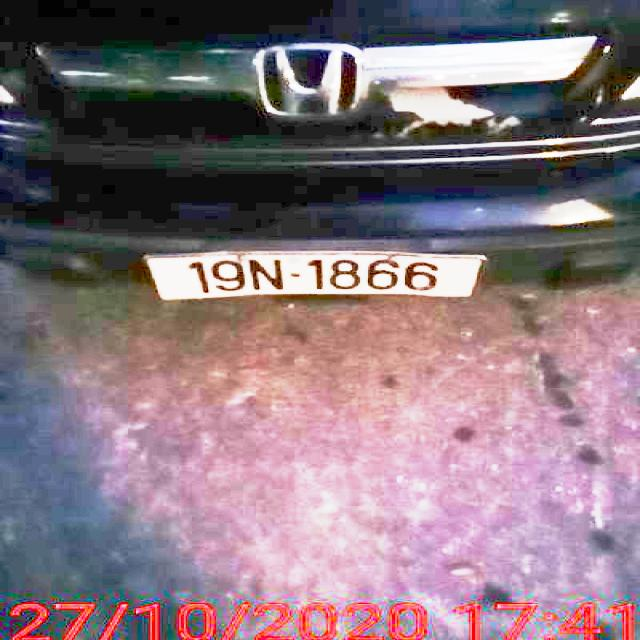license_plate: (149, 257, 483, 303)
